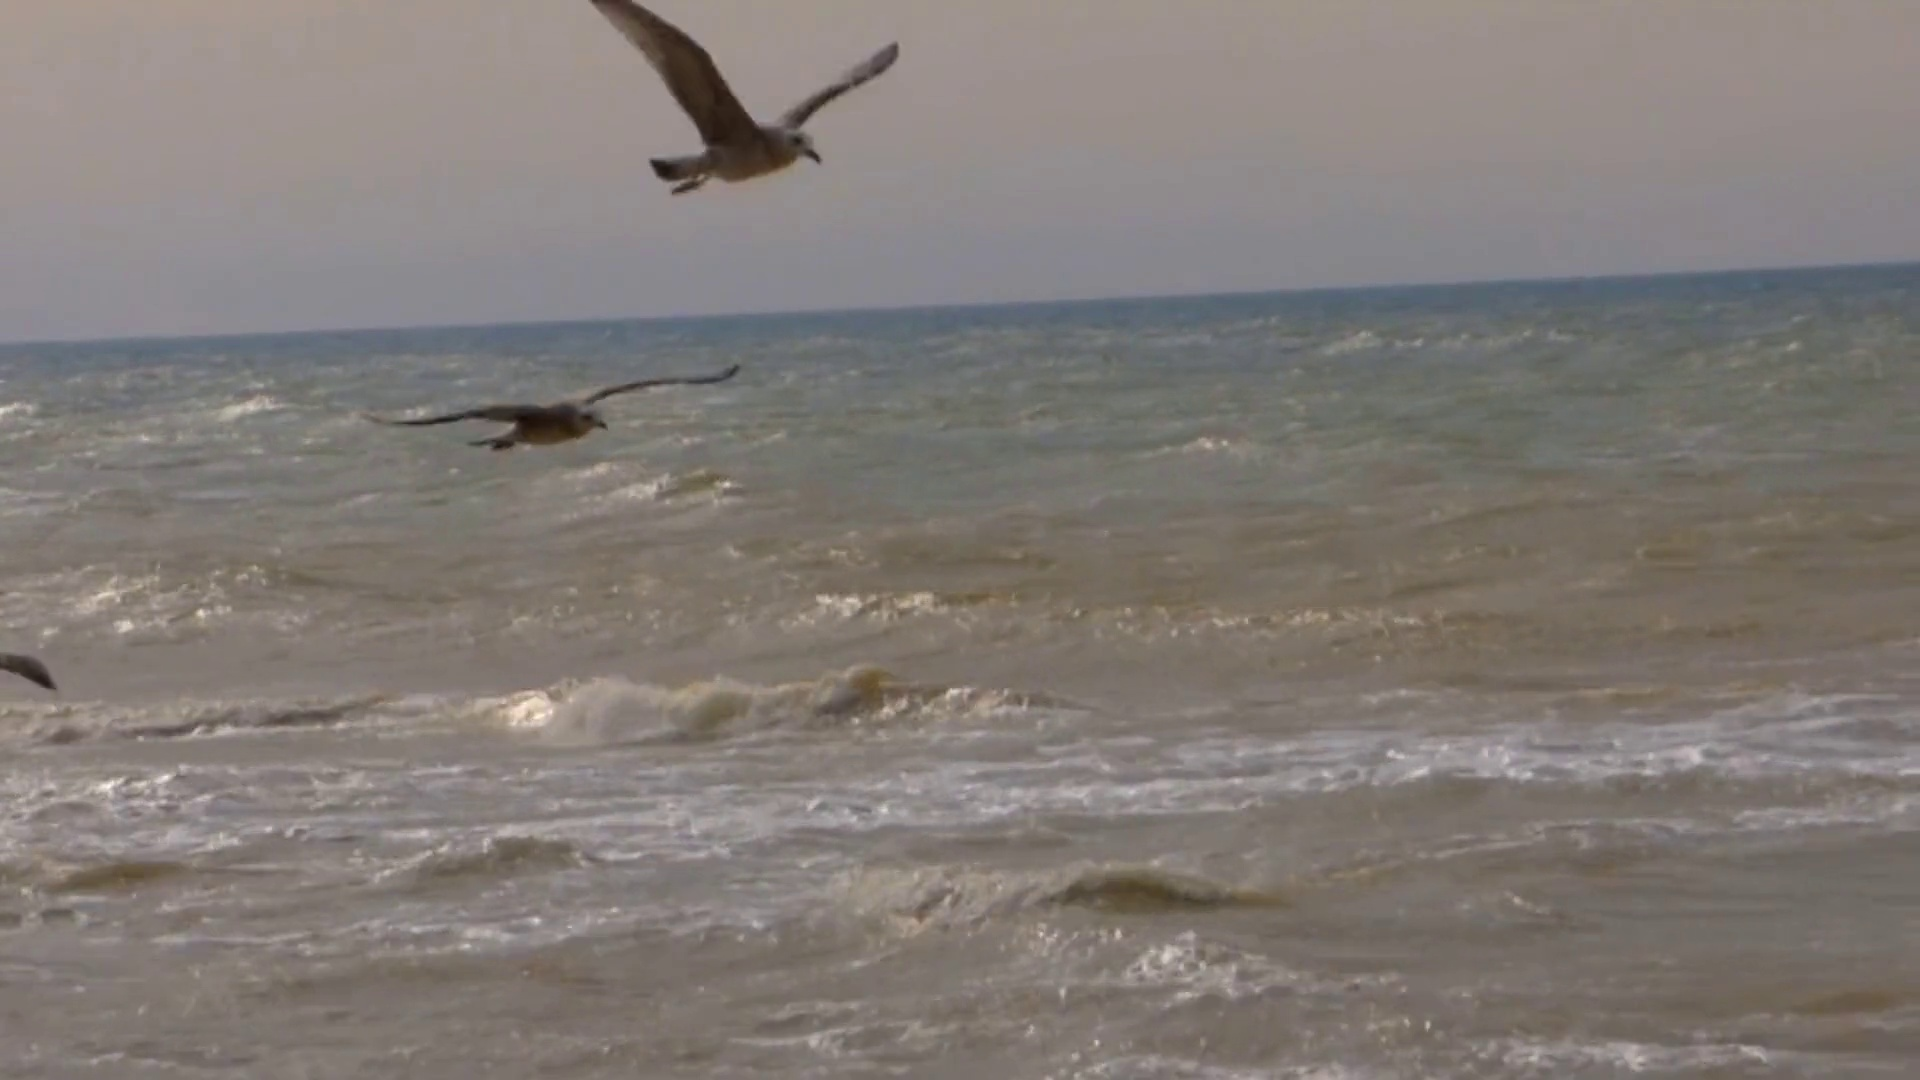bird: (588, 1, 901, 195), (363, 365, 738, 448)
